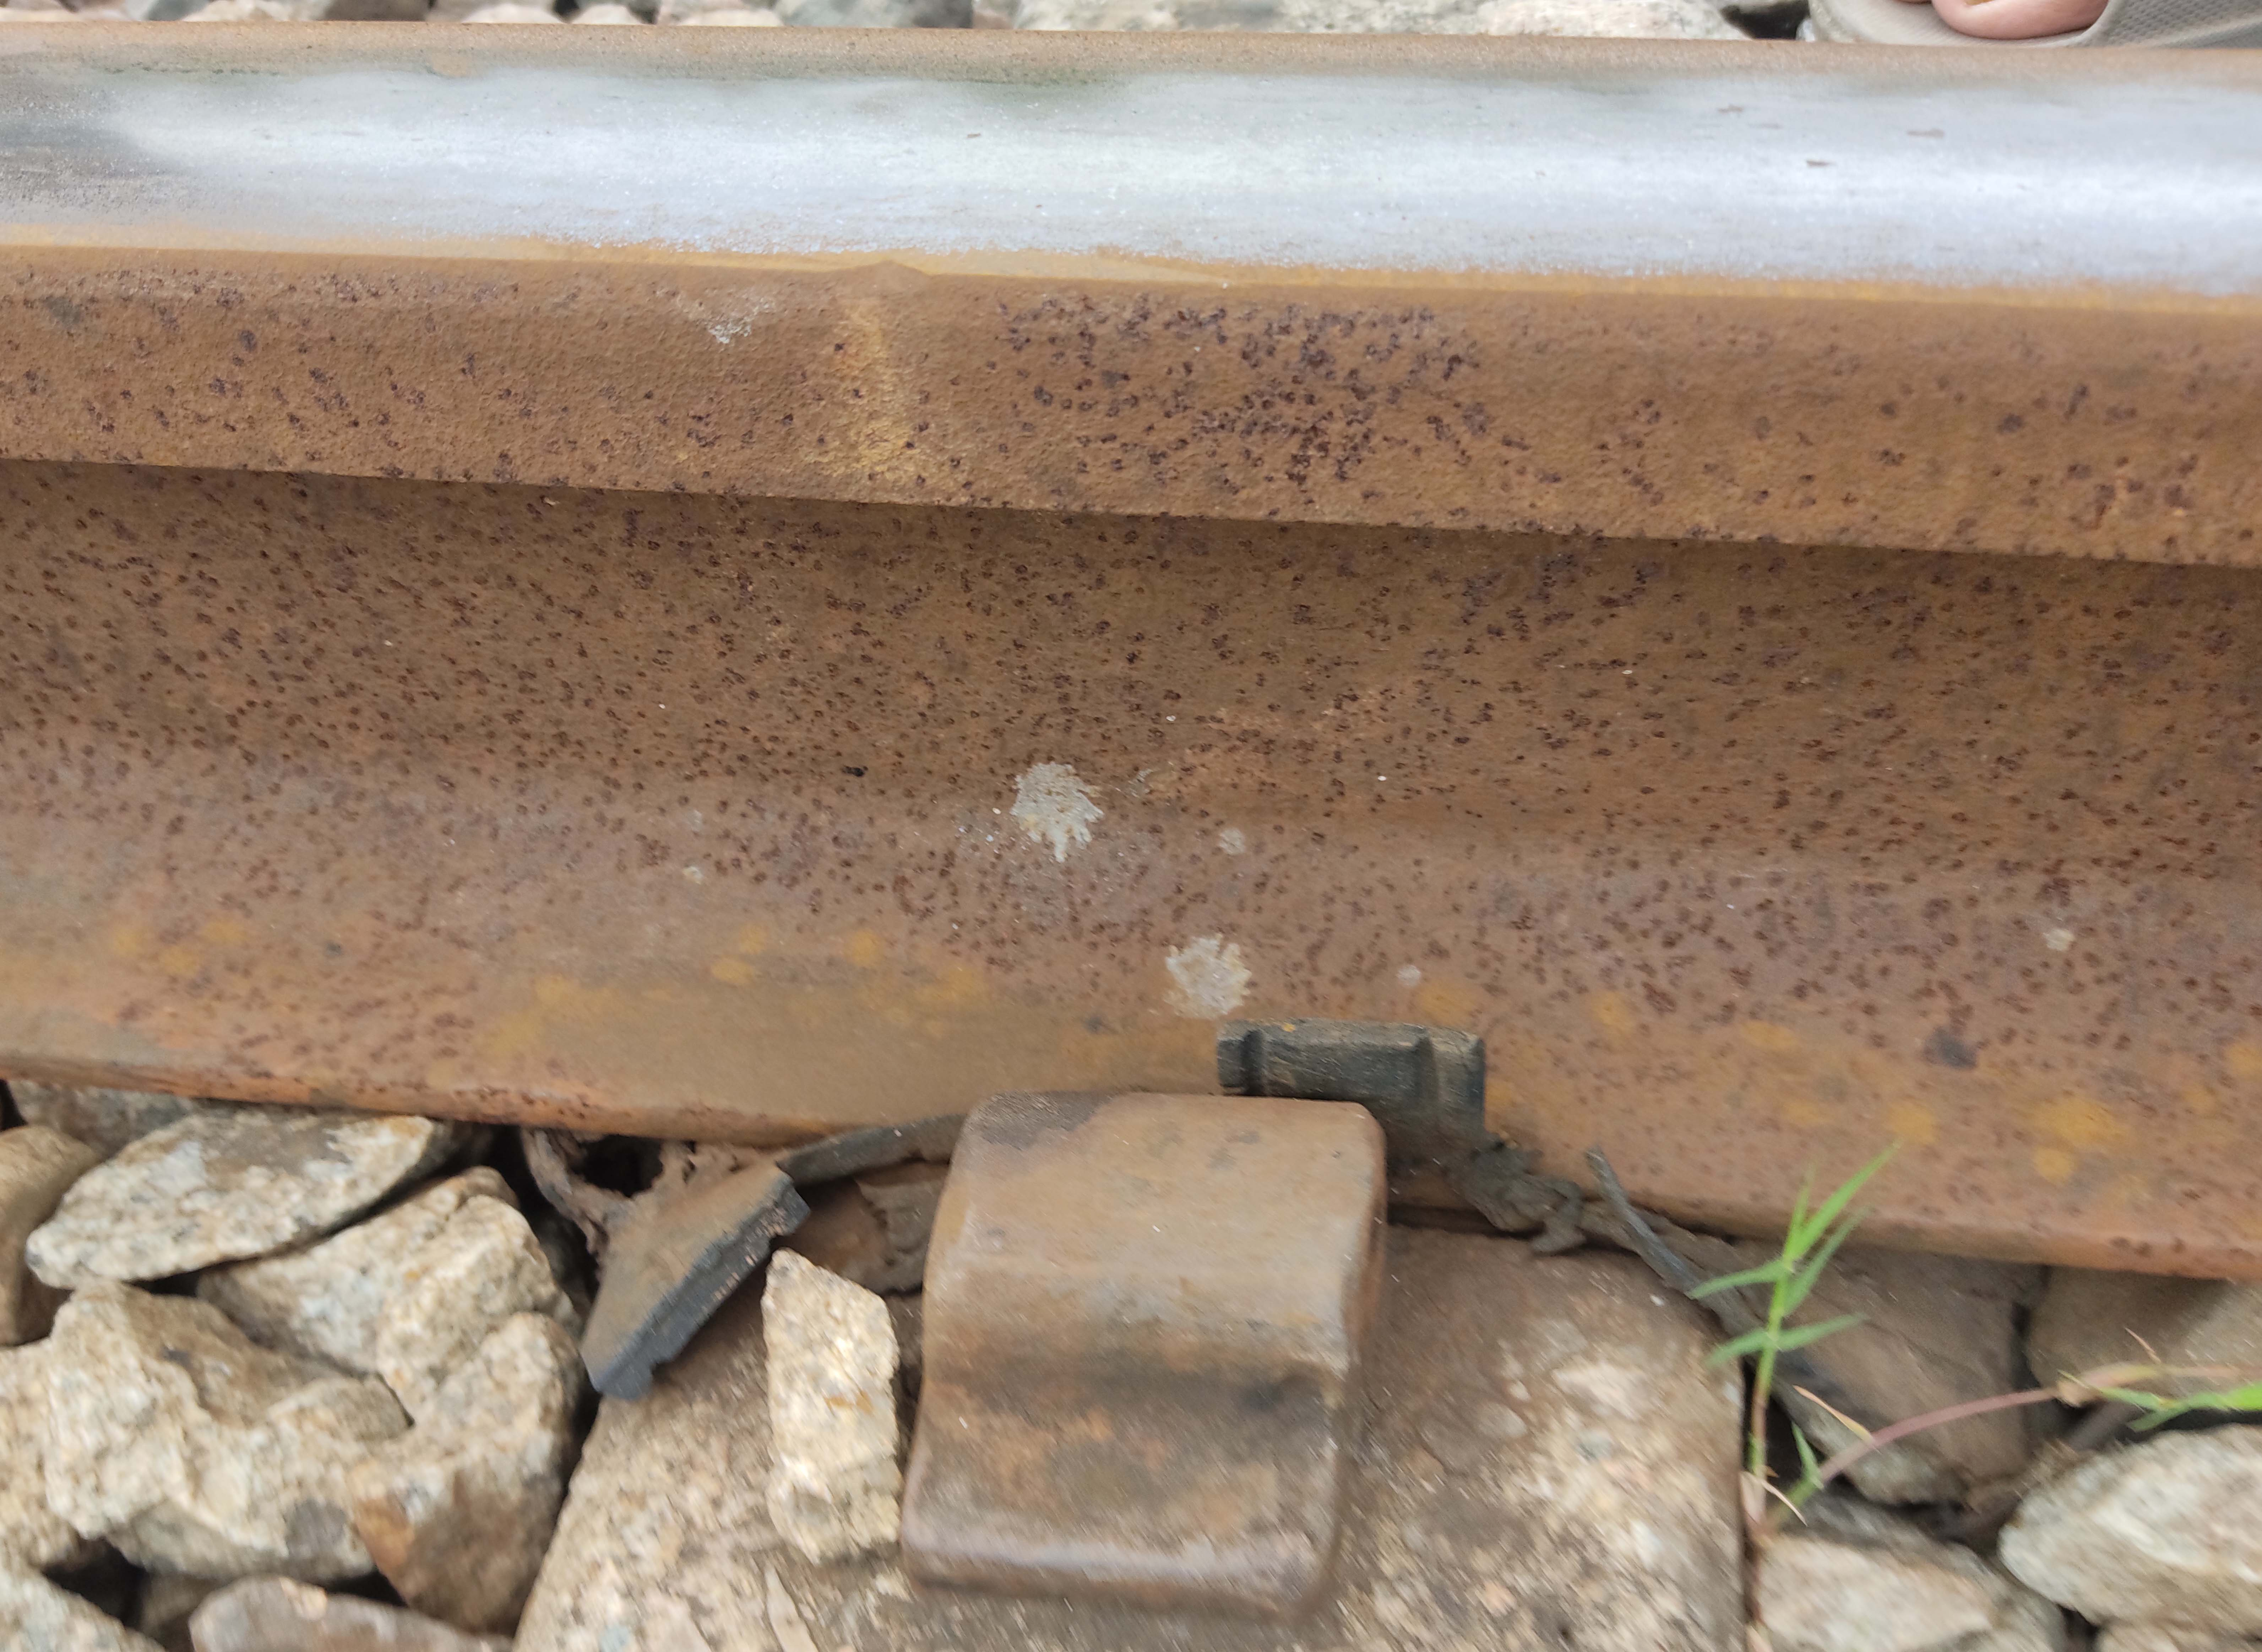error1: (909, 1075, 1434, 1627)
